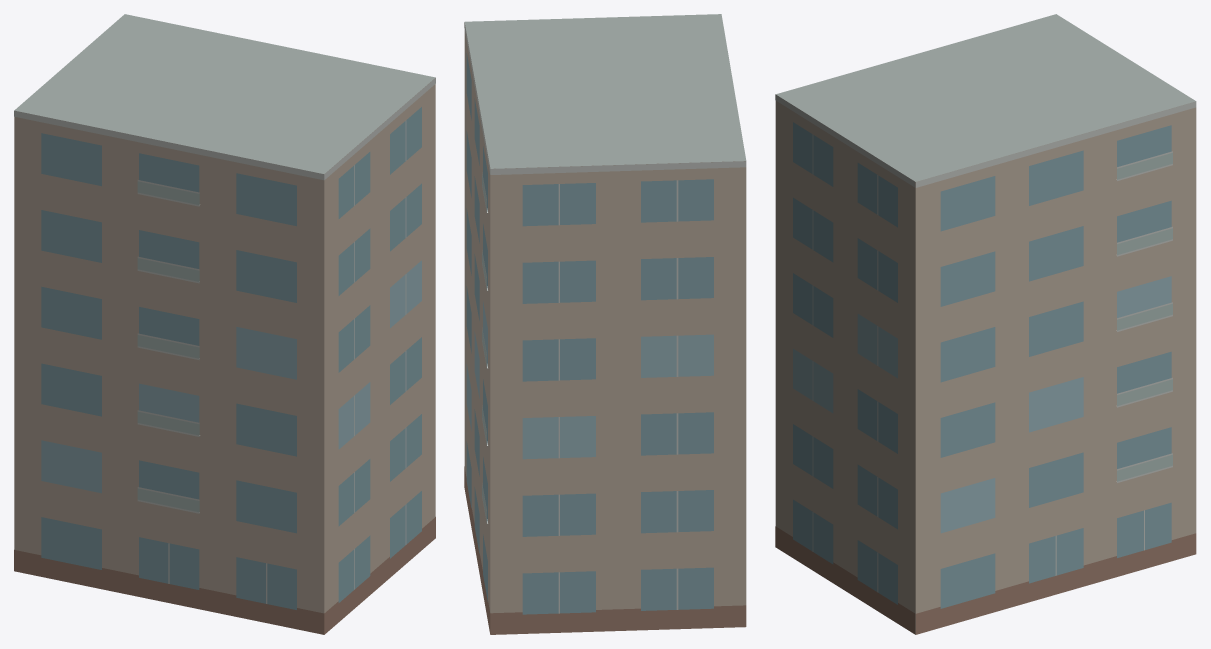
File: survey-upis-32675752.glb
3 views of the same model, side by side, from view 1: azimuth 30°, elevation 25°; view 2: azimuth 150°, elevation 25°; view 3: azimuth 270°, elevation 25° (orthographic). The views are drawn at different scales.
Visible parts, largest first — view 1: survey-upis-32675752.tmp; view 2: survey-upis-32675752.tmp; view 3: survey-upis-32675752.tmp.
Part boxes in pixels (x1,y1,x2,y2): survey-upis-32675752.tmp: [14, 14, 435, 634]; survey-upis-32675752.tmp: [464, 14, 746, 634]; survey-upis-32675752.tmp: [775, 14, 1196, 634].
Bounding box in the file's own units: 14.48 × 18.2 × 15.33.
